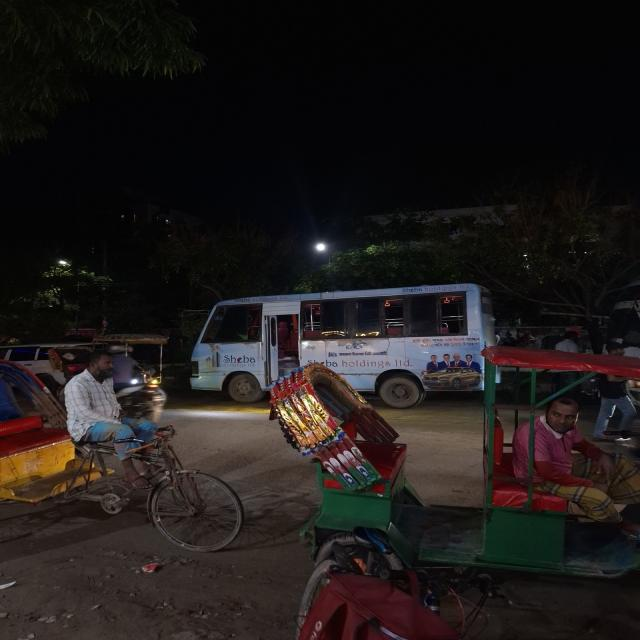bus: (184, 287, 488, 415)
rickshaw: (282, 354, 624, 586), (4, 363, 243, 553)
